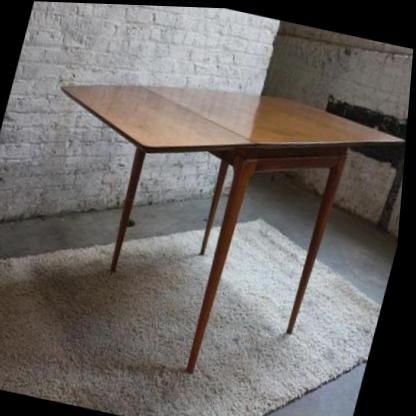Table: (0, 15, 415, 416)
